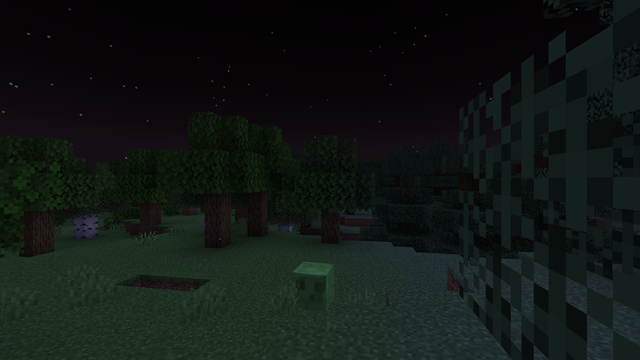slimes: (292, 260, 333, 311)
